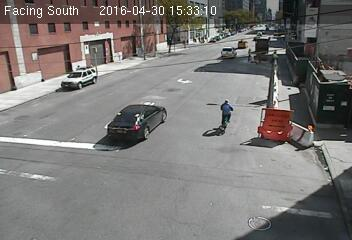neg: (211, 95, 239, 132)
